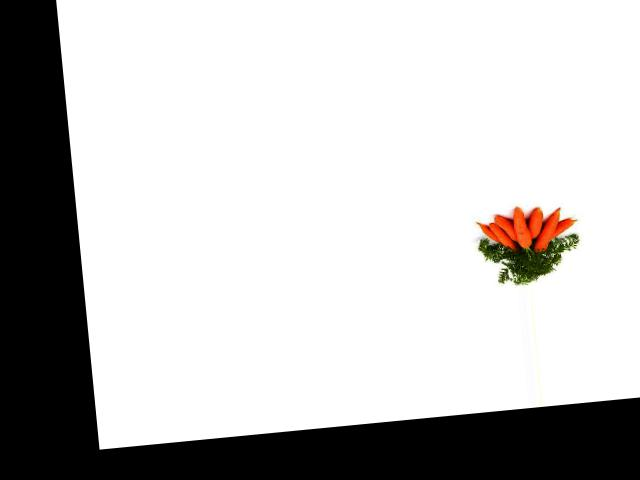carrot: (542, 214, 577, 242)
